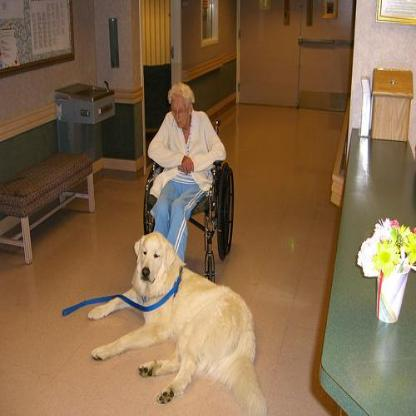Great_Pyrenees: (80, 227, 270, 414)
